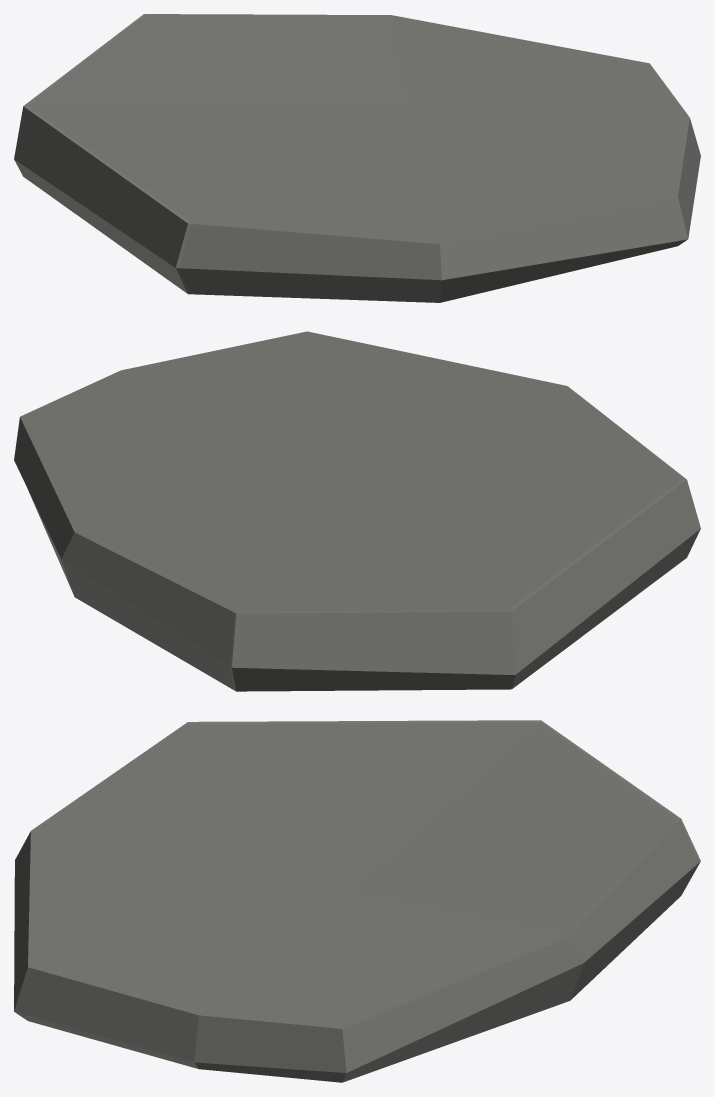
The model's file is StonePath.fbx.
3 views of the same model, one above another, from view 1: azimuth 30°, elevation 25°; view 2: azimuth 150°, elevation 25°; view 3: azimuth 270°, elevation 25° (orthographic). The views are drawn at different scales.
Parts seen in each view (by area): view 1: Plane.551; view 2: Plane.551; view 3: Plane.551.
Part boxes in pixels (bbox=[...]): Plane.551: bbox=[14, 14, 700, 302]; Plane.551: bbox=[14, 331, 700, 691]; Plane.551: bbox=[14, 720, 700, 1082].
Size of the model in its own units: 199 by 24.54 by 198.
Materials: 1 (1 with a texture image).
